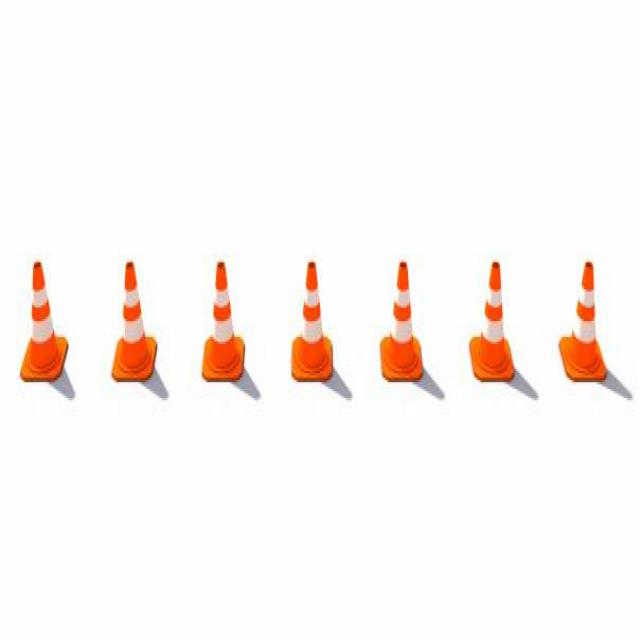Cone: (110, 260, 161, 382), (19, 260, 67, 385), (558, 262, 608, 380), (470, 260, 515, 380), (290, 260, 334, 380), (381, 262, 423, 382), (201, 262, 243, 378)
